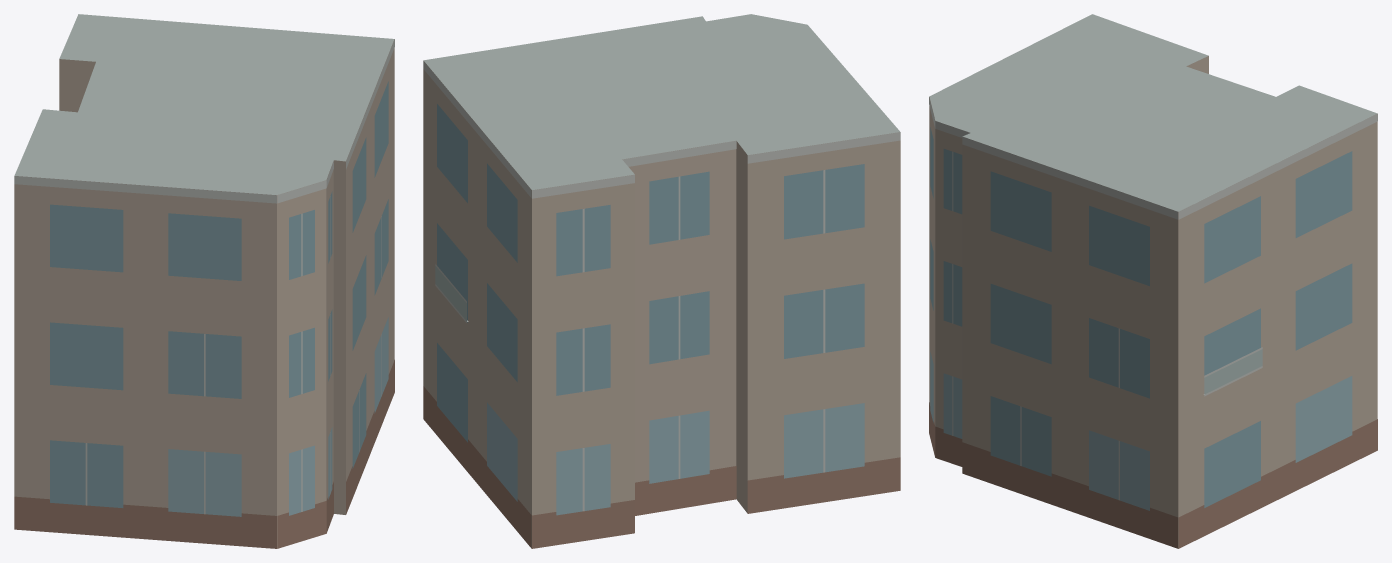
Rendered from survey-upis-33036414.glb.
3 views of the same model, side by side, from view 1: azimuth 30°, elevation 25°; view 2: azimuth 150°, elevation 25°; view 3: azimuth 270°, elevation 25° (orthographic). The views are drawn at different scales.
Parts seen in each view (by area): view 1: survey-upis-33036414.tmp; view 2: survey-upis-33036414.tmp; view 3: survey-upis-33036414.tmp.
Part boxes in pixels (x1,y1,x2,y2): survey-upis-33036414.tmp: [14, 14, 394, 548]; survey-upis-33036414.tmp: [423, 14, 900, 548]; survey-upis-33036414.tmp: [929, 14, 1377, 548].
Size of the model in its own units: 12.98 by 10.3 by 12.43.
